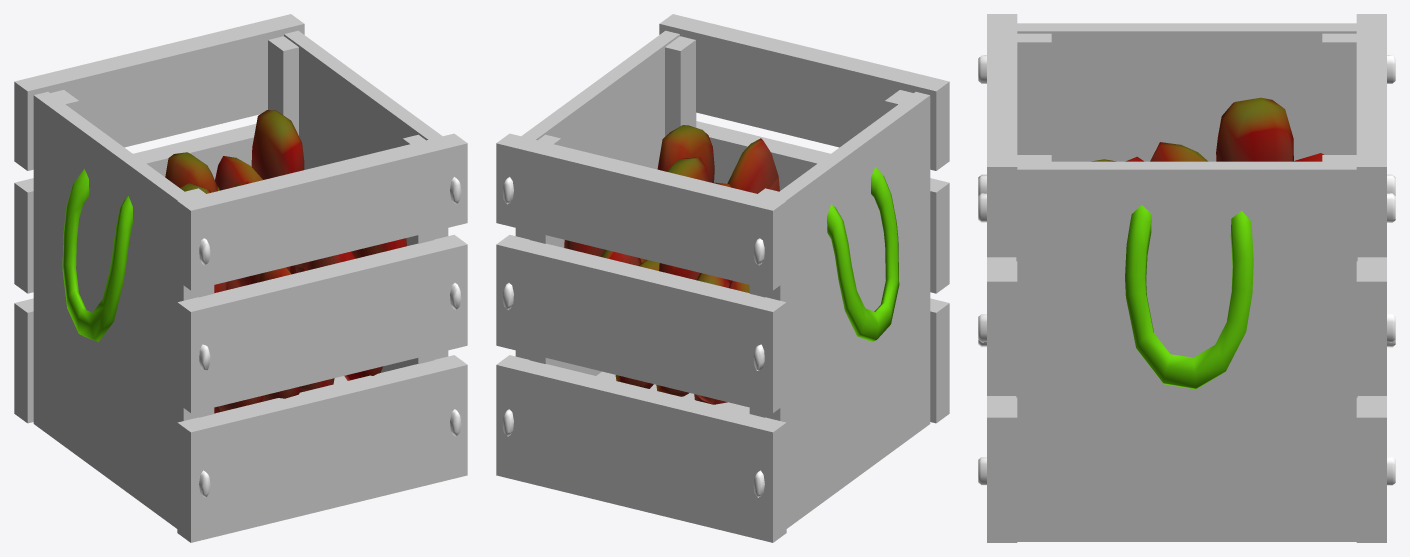
File: farm_crate.glb
The picture shows the model from 3 angles, left to right: view 1: azimuth 30°, elevation 25°; view 2: azimuth 150°, elevation 25°; view 3: azimuth 270°, elevation 25°; orthographic projection. The views are drawn at different scales.
Visible parts, largest first — view 1: FarmCrate_Apple; view 2: FarmCrate_Apple; view 3: FarmCrate_Apple.
Boxes of the visible parts, x1=… form: FarmCrate_Apple: x1=14, y1=14, x2=467, y2=542; FarmCrate_Apple: x1=496, y1=14, x2=949, y2=542; FarmCrate_Apple: x1=978, y1=14, x2=1395, y2=542.
Size of the model in its own units: 1 by 1 by 1.
